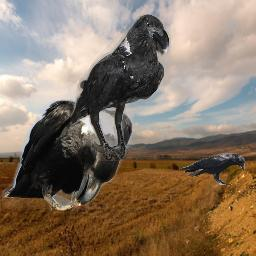Crow: (2, 97, 134, 214), (70, 14, 171, 161), (179, 153, 245, 185)
